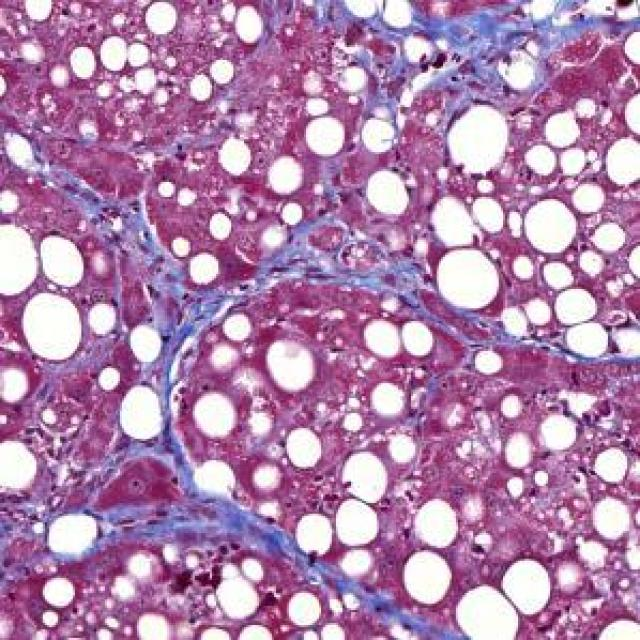fibrosis: (349, 17, 554, 120), (283, 220, 415, 296), (128, 507, 302, 563)
